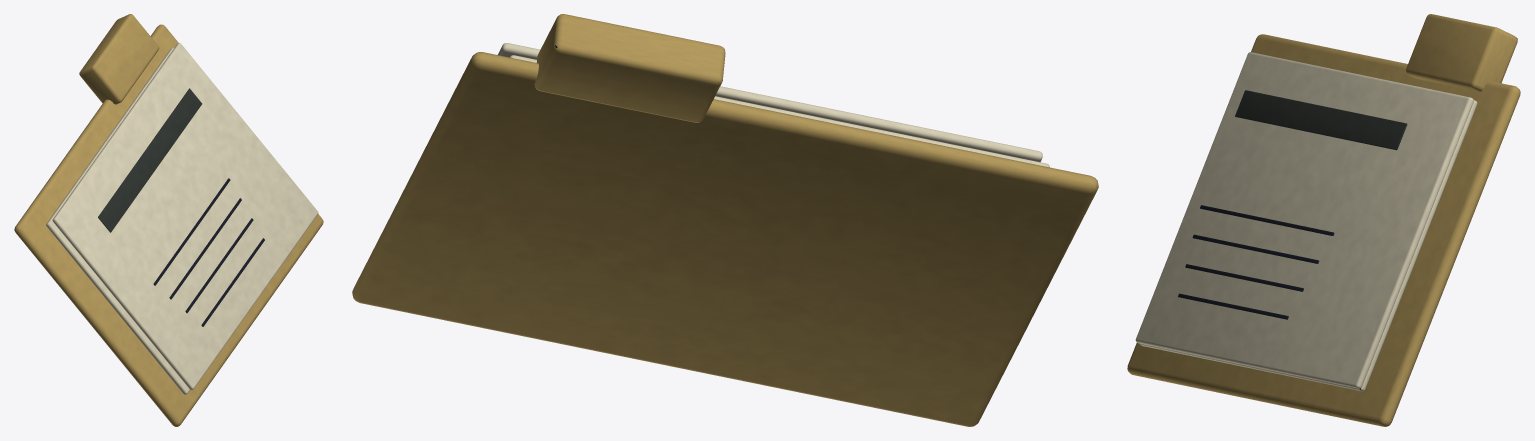
3 views of the same model, side by side, from view 1: azimuth 30°, elevation 25°; view 2: azimuth 150°, elevation 25°; view 3: azimuth 270°, elevation 25° (orthographic). The views are drawn at different scales.
Parts seen in each view (by area): view 1: Folded document backing; view 2: Folded document backing; view 3: Folded document backing.
Boxes of the visible parts, <box> form: Folded document backing: <box>14,14,323,426</box>; Folded document backing: <box>352,14,1098,426</box>; Folded document backing: <box>1127,14,1520,426</box>.
Size of the model in its own units: 1.35 by 1.08 by 0.9515.
1 material, 1 textured.
